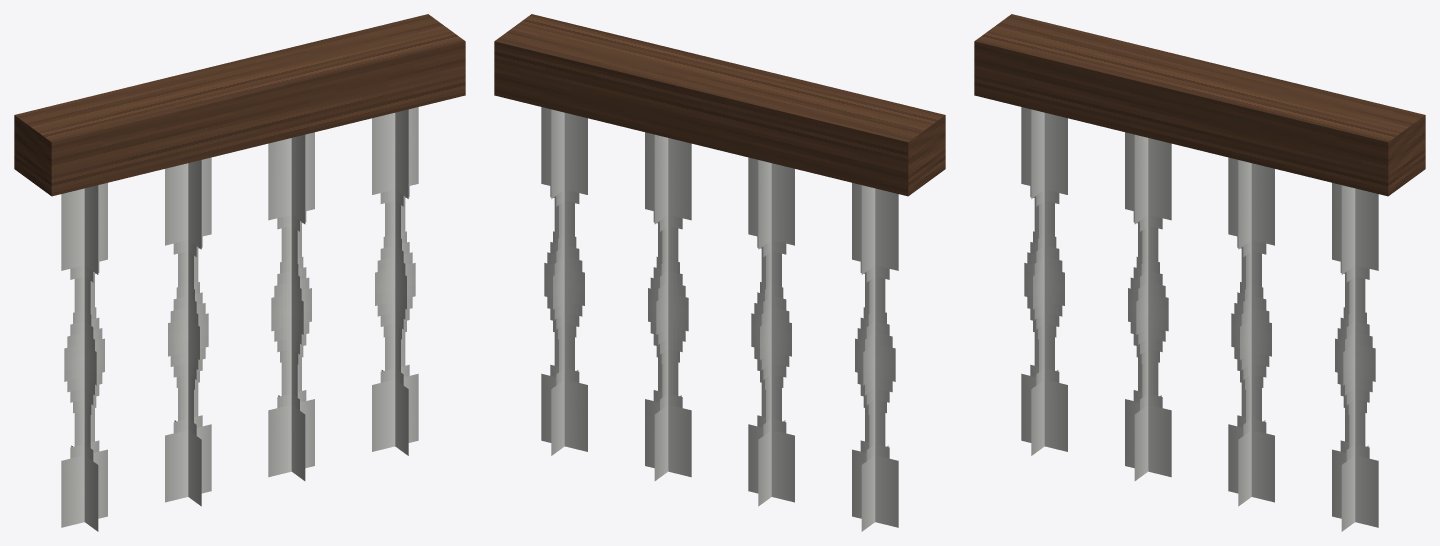
File: level.obj
The picture shows the model from 3 angles, left to right: view 1: azimuth 30°, elevation 25°; view 2: azimuth 150°, elevation 25°; view 3: azimuth 330°, elevation 25°; orthographic projection.
Visible parts, largest first — view 1: railing_turned_walnut_level; view 2: railing_turned_walnut_level; view 3: railing_turned_walnut_level.
Part boxes in pixels (x1=…): railing_turned_walnut_level: x1=14, y1=14, x2=465, y2=531; railing_turned_walnut_level: x1=494, y1=14, x2=945, y2=531; railing_turned_walnut_level: x1=974, y1=14, x2=1425, y2=531.
Size of the model in its own units: 1 by 0.9375 by 0.1562.
